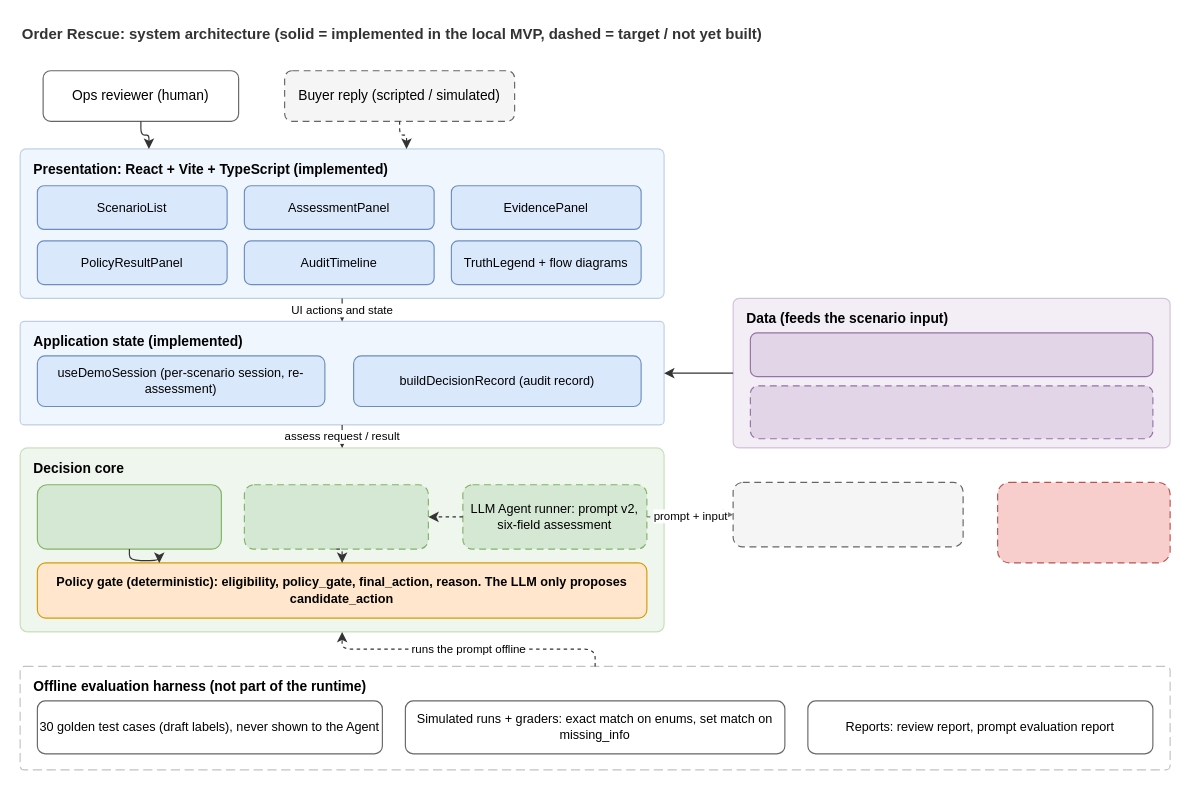
This 1190x790 diagram has some shape labels left out. Each missing label, with the centre of its shape:
"assessCase: deterministic assessor (MVP v1 rules)" goes at point 128,516.
"OpenAI API (future, called server-side only)" goes at point 847,514.
"Schema + source_ref check" goes at point 335,516.
"Shopee / SPX systems: NOT connected" goes at point 1083,522.
"Synthetic fixtures: scenarios.ts, 5 scenarios (implemented)" goes at point 951,354.
"v2.2 data model: 9 tables, 30 seed cases (JSON). DB engine not selected" goes at point 951,412.
